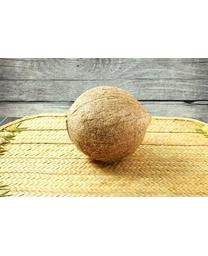coconut: (65, 84, 152, 163)
